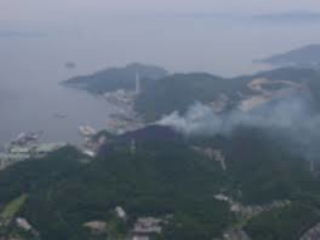smoke: (149, 99, 299, 140)
